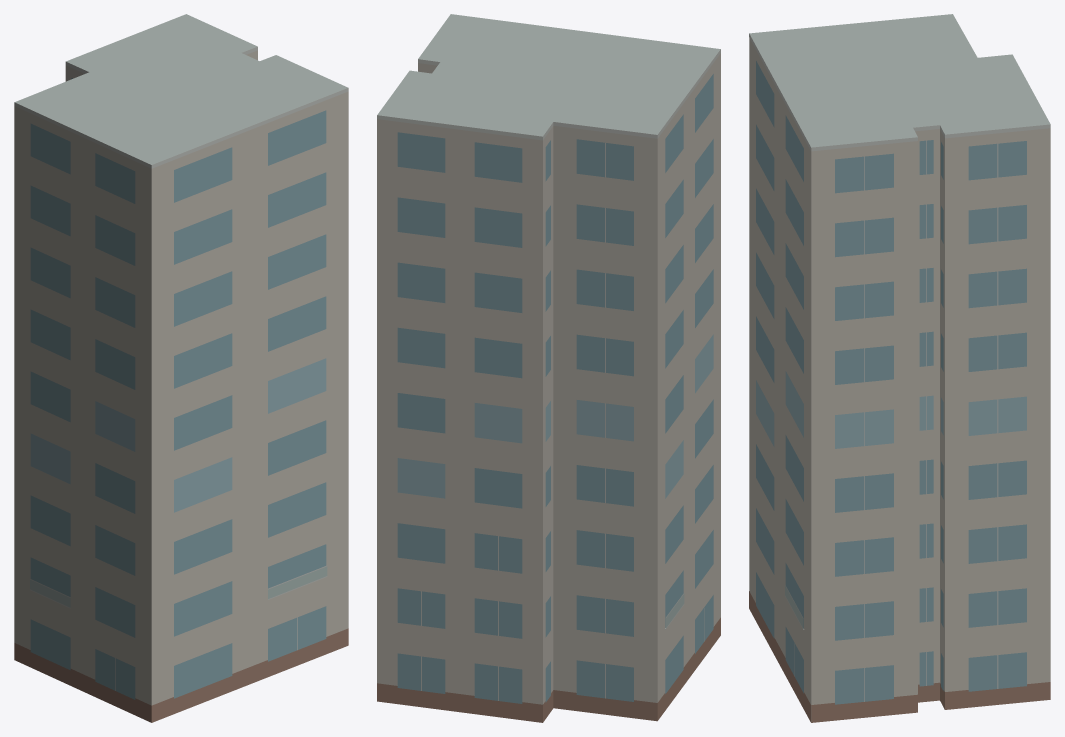
The model's file is survey-upis-33015183.glb.
The picture shows the model from 3 angles, left to right: view 1: azimuth 30°, elevation 25°; view 2: azimuth 150°, elevation 25°; view 3: azimuth 270°, elevation 25°; orthographic projection. The views are drawn at different scales.
Visible parts, largest first — view 1: survey-upis-33015183.tmp; view 2: survey-upis-33015183.tmp; view 3: survey-upis-33015183.tmp.
Boxes of the visible parts, x1,y1,x2,y2 form: survey-upis-33015183.tmp: (14, 14, 348, 722); survey-upis-33015183.tmp: (377, 14, 720, 722); survey-upis-33015183.tmp: (749, 14, 1050, 722).
Bounding box in the file's own units: 18.36 × 36.85 × 17.51.
